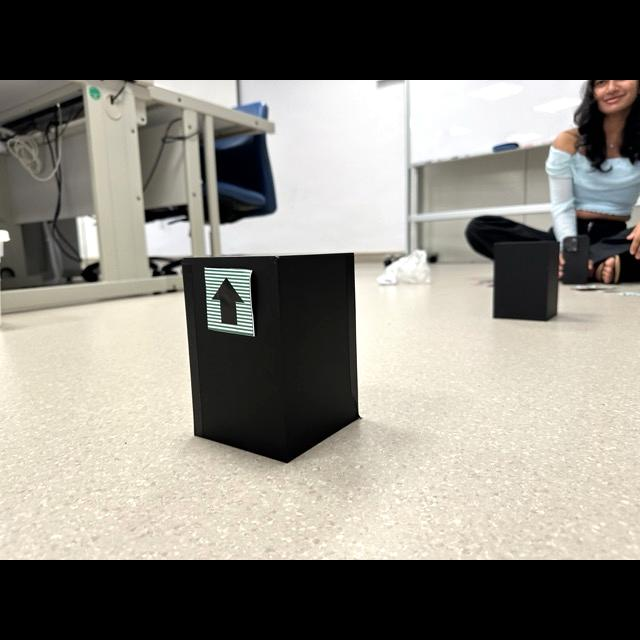UP: (211, 277, 244, 325)
